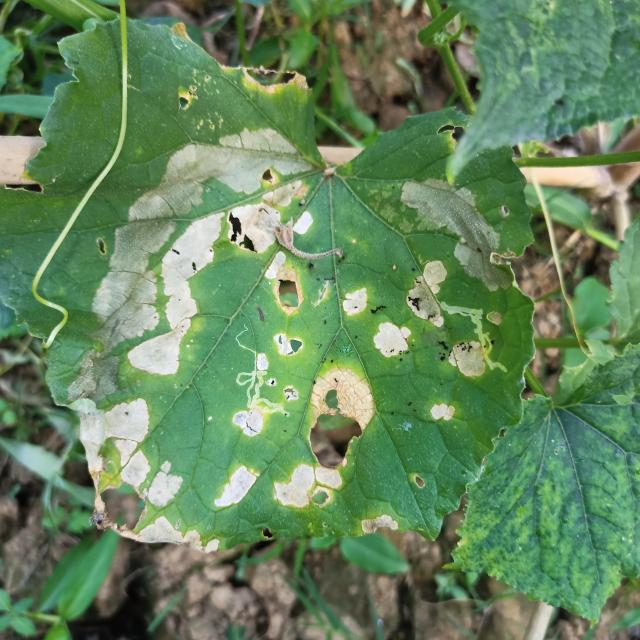disease_cucumber: (59, 384, 424, 556), (87, 125, 321, 382), (333, 174, 517, 438)
